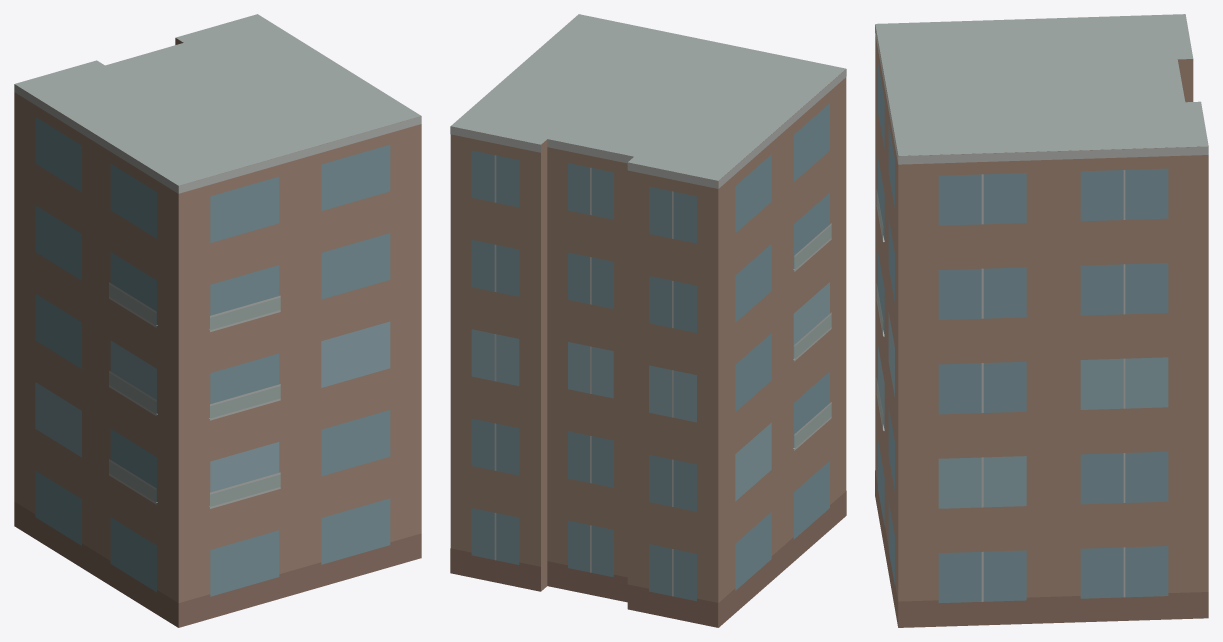
Rendered from survey-upis-32655298.glb.
3 views of the same model, side by side, from view 1: azimuth 30°, elevation 25°; view 2: azimuth 150°, elevation 25°; view 3: azimuth 270°, elevation 25° (orthographic). The views are drawn at different scales.
Parts seen in each view (by area): view 1: survey-upis-32655298.tmp; view 2: survey-upis-32655298.tmp; view 3: survey-upis-32655298.tmp.
Part boxes in pixels (x1=…): survey-upis-32655298.tmp: x1=14, y1=14, x2=421, y2=627; survey-upis-32655298.tmp: x1=450, y1=14, x2=846, y2=627; survey-upis-32655298.tmp: x1=875, y1=14, x2=1208, y2=627.
Size of the model in its own units: 8.73 by 13.5 by 8.66.
